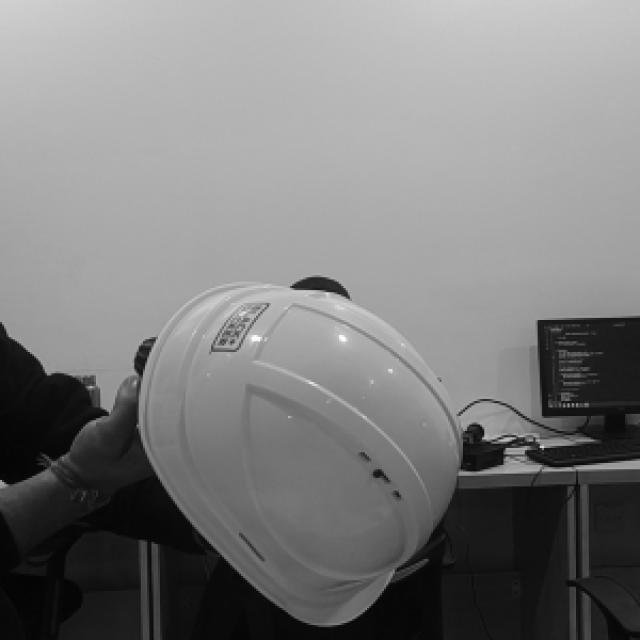safety_helmet: (137, 281, 462, 628)
